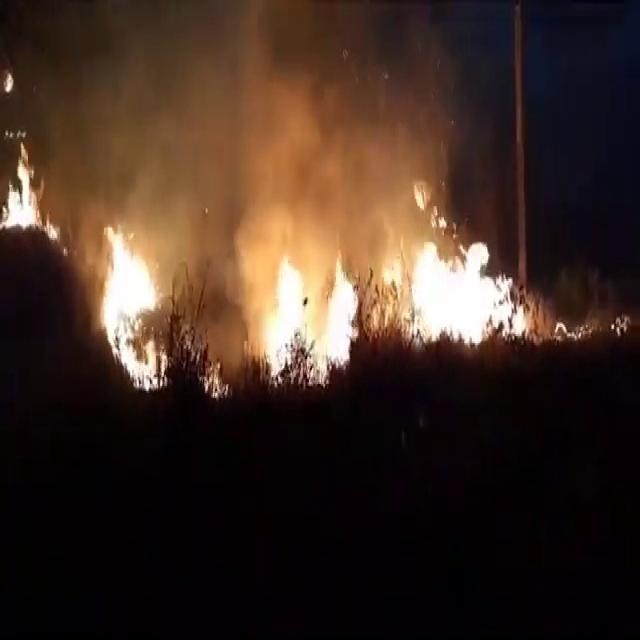Fire: (384, 229, 540, 353), (260, 235, 363, 384), (99, 231, 170, 399), (0, 147, 66, 249)
Smoke: (46, 0, 481, 249)
